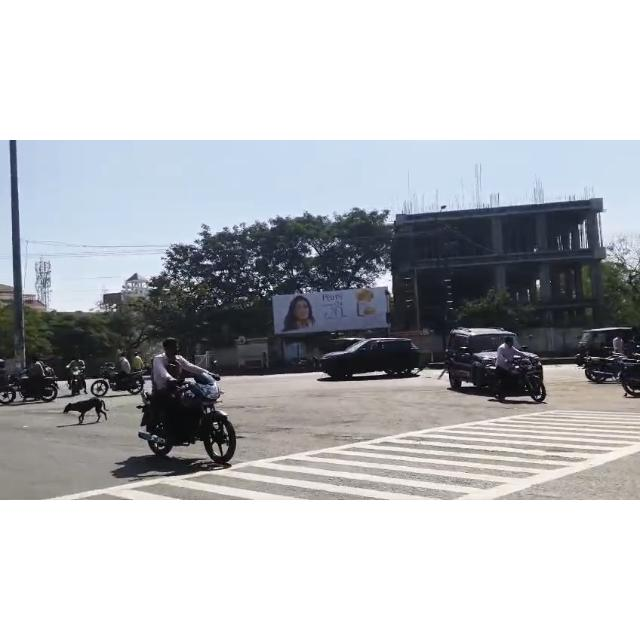auto: (572, 326, 640, 372)
car: (446, 328, 550, 400), (319, 331, 432, 383)
